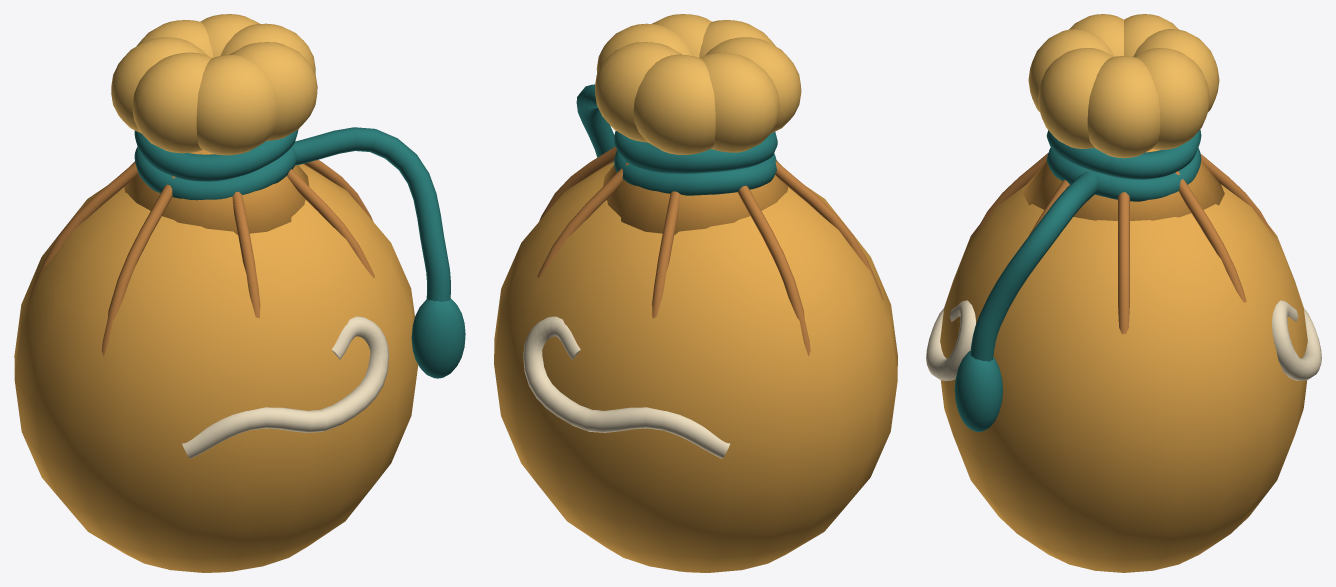
The model's file is wind_sack.glb.
3 views of the same model, side by side, from view 1: azimuth 30°, elevation 25°; view 2: azimuth 150°, elevation 25°; view 3: azimuth 270°, elevation 25° (orthographic).
Visible parts, largest first — view 1: body_E4A84B, mouth_EAB75C, mouth_267875, body_BD7D3E, body_E7D8B9, body_D79843; view 2: body_E4A84B, mouth_EAB75C, mouth_267875, body_BD7D3E, body_E7D8B9, body_D79843; view 3: body_E4A84B, mouth_EAB75C, mouth_267875, body_BD7D3E, body_E7D8B9, body_D79843.
Part boxes in pixels (x1,y1,x2,y2): body_E4A84B: (14,164,418,572); mouth_EAB75C: (111,14,317,155); mouth_267875: (134,127,465,378); body_BD7D3E: (28,159,374,356); body_E7D8B9: (182,316,389,458); body_D79843: (124,150,309,234); body_E4A84B: (494,162,897,572); mouth_EAB75C: (595,14,801,154); mouth_267875: (576,84,777,195); body_BD7D3E: (537,146,883,356); body_E7D8B9: (523,316,729,458); body_D79843: (603,142,788,234); body_E4A84B: (940,184,1307,572); mouth_EAB75C: (1028,14,1219,158); mouth_267875: (954,129,1201,431); body_BD7D3E: (973,153,1274,334); body_E7D8B9: (926,300,1321,380); body_D79843: (1023,149,1224,220).
Size of the model in its own units: 1.12 by 1.53 by 1.06.
